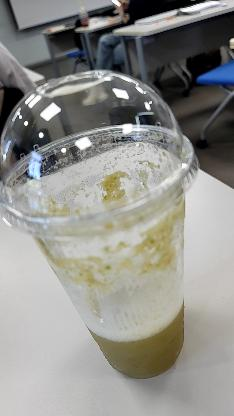Plastic Cup: (4, 63, 200, 381), (0, 68, 206, 238)
